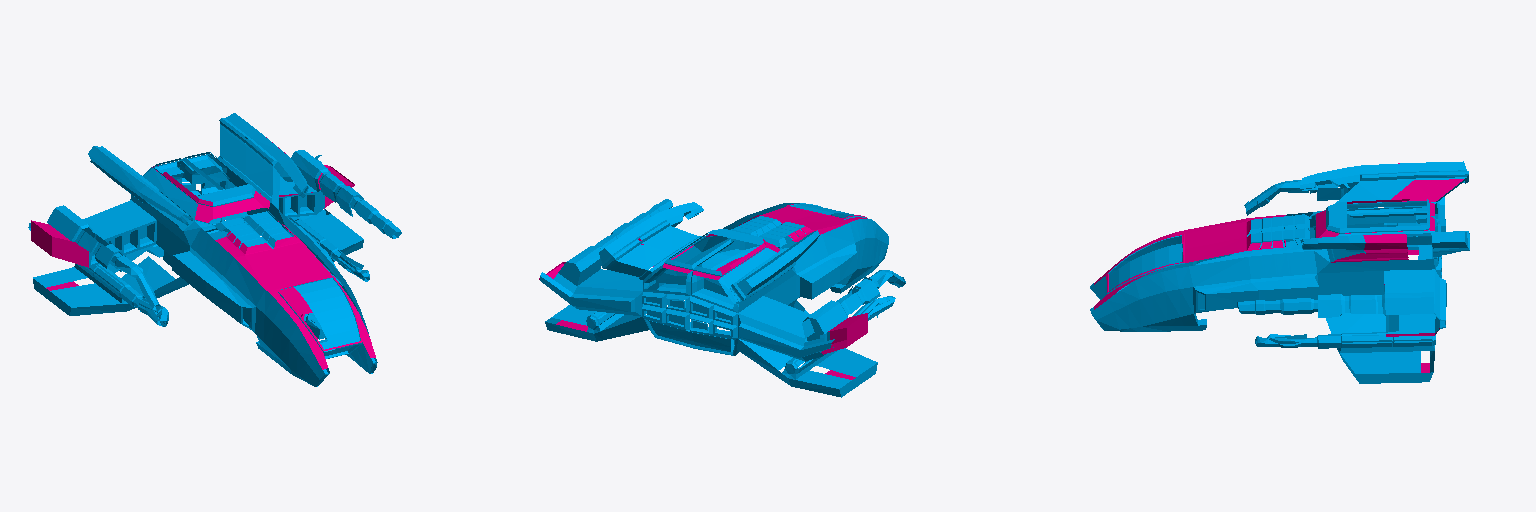
The picture shows the model from 3 angles: view 1: azimuth 30°, elevation 25°; view 2: azimuth 150°, elevation 25°; view 3: azimuth 270°, elevation 25°; orthographic projection.
Visible parts, largest first — view 1: ms_Object007.000; view 2: ms_Object007.000; view 3: ms_Object007.000.
Boxes of the visible parts, <box> form: ms_Object007.000: <box>28,113,401,386</box>; ms_Object007.000: <box>539,199,905,397</box>; ms_Object007.000: <box>1090,161,1469,383</box>.
Size of the model in its own units: 700 by 265 by 757.
1 materials, 1 textured.